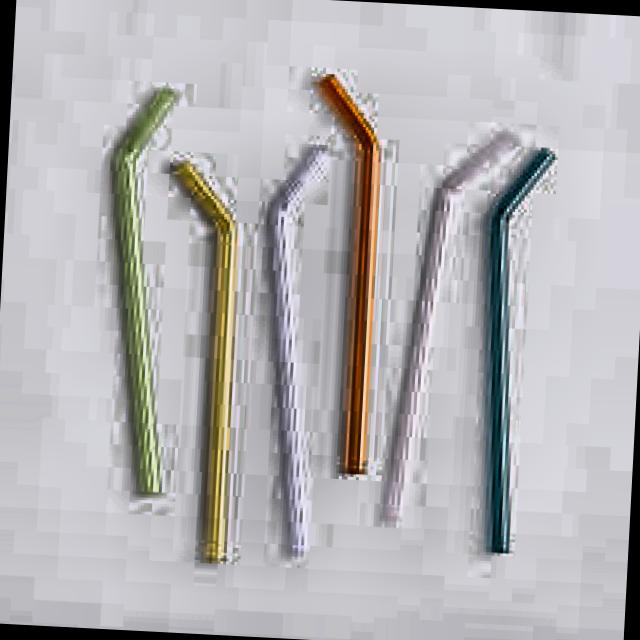plastic straw: (386, 135, 513, 522), (486, 148, 555, 553), (175, 160, 238, 563), (318, 74, 381, 472), (113, 88, 173, 493), (268, 144, 325, 553)
